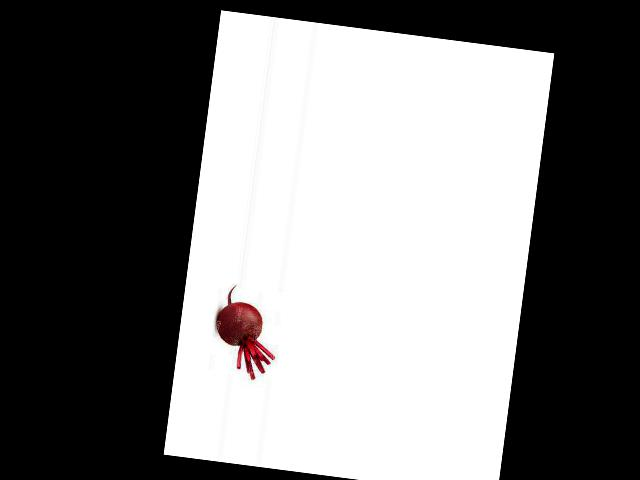beet: (210, 283, 283, 382)
